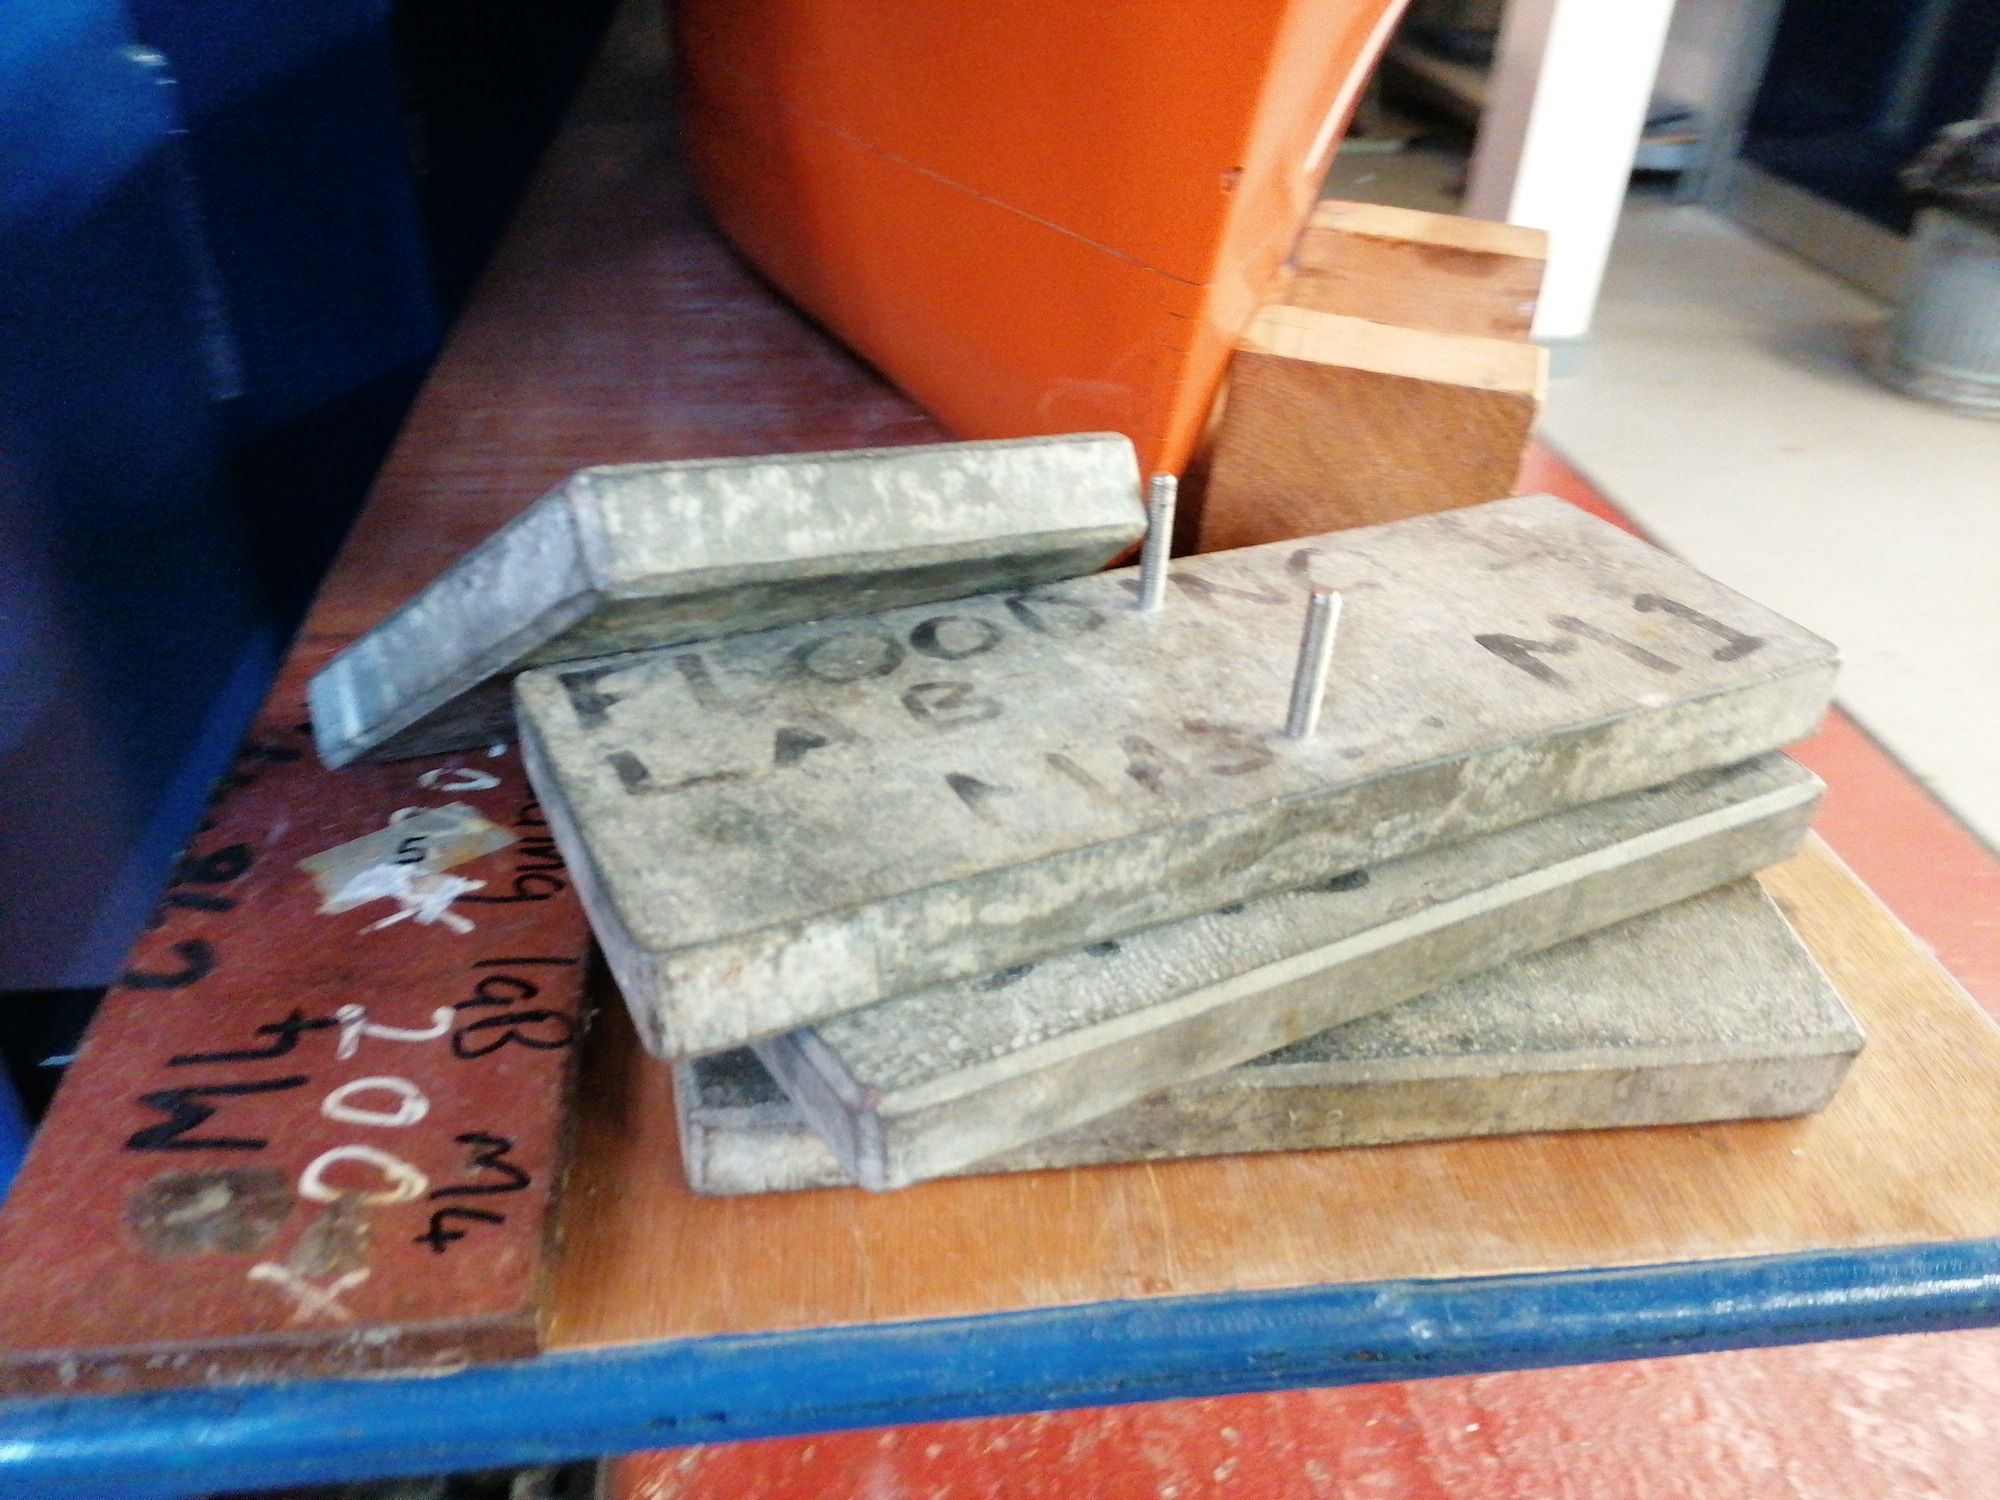lead-block: (512, 492, 1852, 1076), (746, 748, 1831, 1197), (668, 871, 1866, 1205), (302, 429, 1146, 780)
